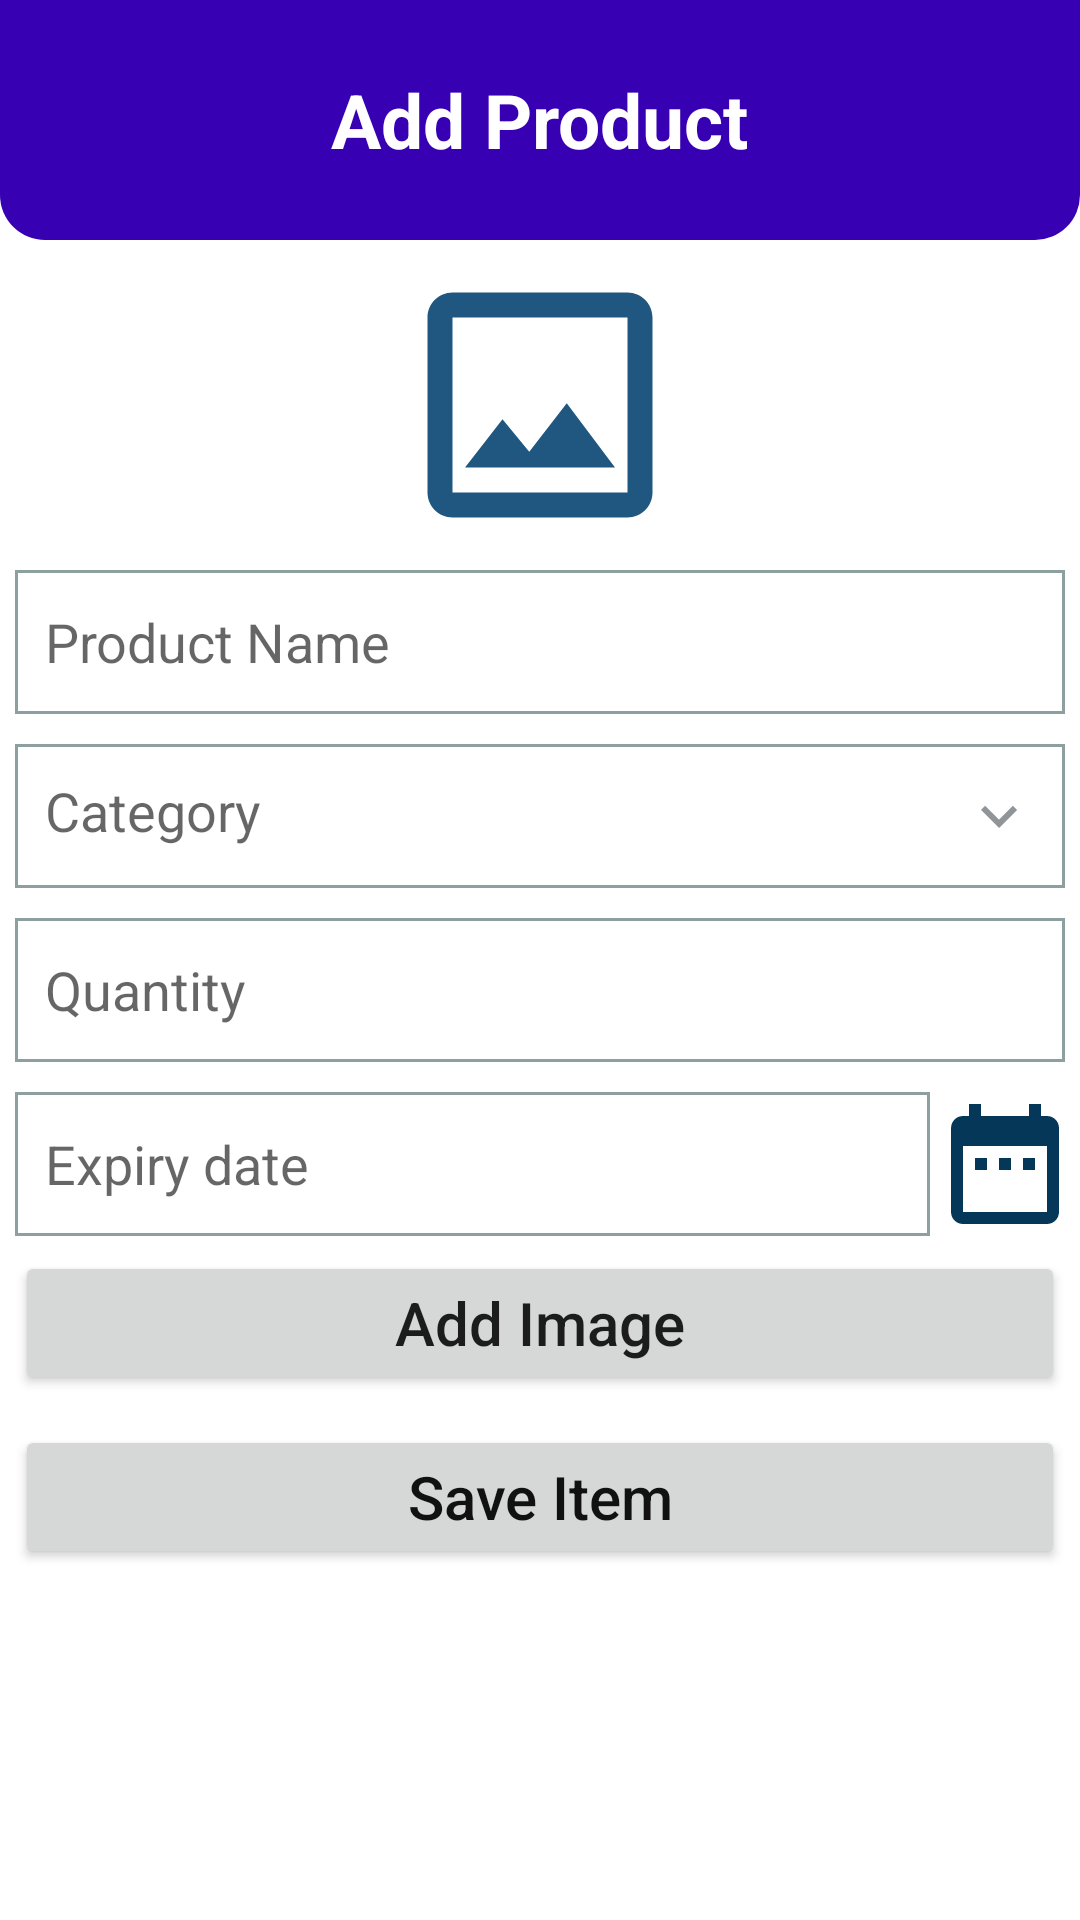

Icon bounding boxes for this 1080*1920 phone screenshot, format bbox=[x1, y1, x2, y2]:
date range: bbox=[951, 1104, 1059, 1224]
